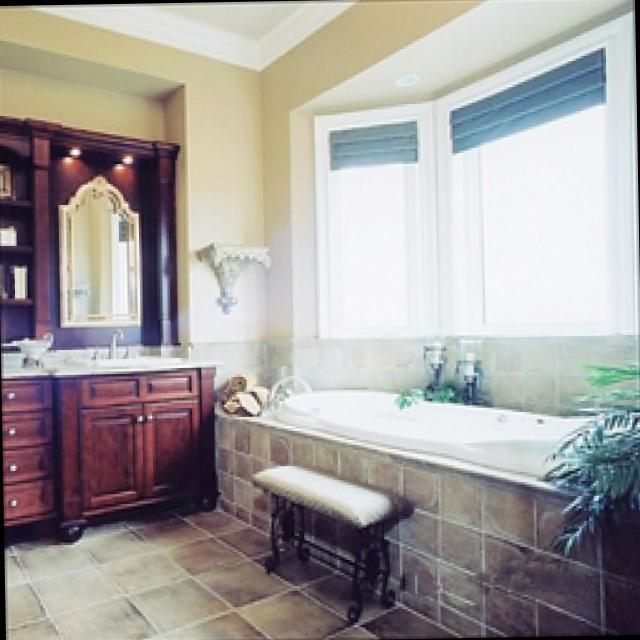2001: (441, 12, 638, 328), (319, 98, 438, 330)
bath occluded: (264, 365, 321, 411)
bathtub: (217, 385, 640, 635), (284, 386, 627, 485)
bench crop: (253, 458, 413, 617)
cabinet door: (61, 362, 218, 537), (71, 369, 223, 514), (8, 380, 61, 520)
candle holder: (458, 337, 488, 398), (424, 333, 450, 383)
ceiling beam: (47, 2, 349, 66)
ceiling lamps: (393, 71, 421, 86)
counter bottom: (4, 343, 206, 383)
drawers crop: (6, 375, 61, 523)
floor -X: (11, 509, 458, 638)
mirror crop: (60, 179, 140, 319)
picture occluded: (2, 160, 20, 190)
plant -x: (543, 362, 640, 556)
shelf crop: (201, 239, 272, 314)
sink basin: (55, 324, 221, 372), (76, 350, 176, 366)
sink occluded: (93, 318, 141, 356)
vanity top: (6, 113, 213, 535)
